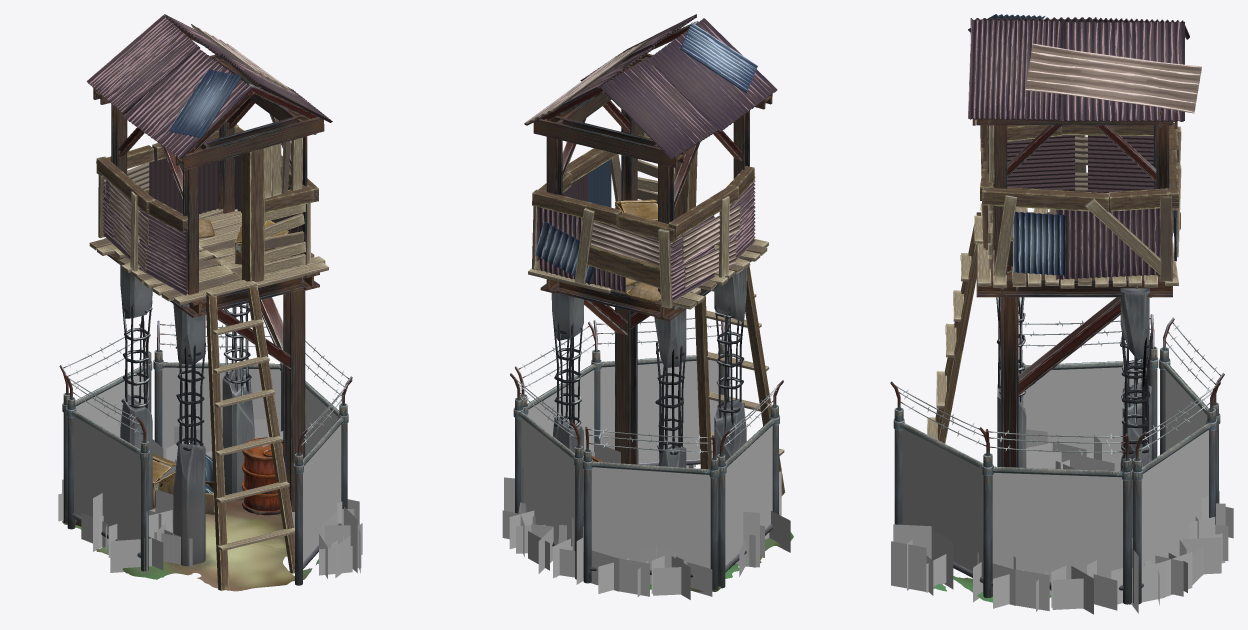
Rendered from tower1.fbx.
3 renders of one model, left to right at view 1: azimuth 30°, elevation 25°; view 2: azimuth 150°, elevation 25°; view 3: azimuth 270°, elevation 25°, orthographic. The views are drawn at different scales.
Visible parts, largest first — view 1: tower; view 2: tower; view 3: tower.
Part boxes in pixels (x1,y1,x2,y2): tower: [58, 14, 362, 591]; tower: [502, 14, 793, 599]; tower: [890, 14, 1233, 614].
Bounding box in the file's own units: 9.99 × 17.99 × 10.42.
